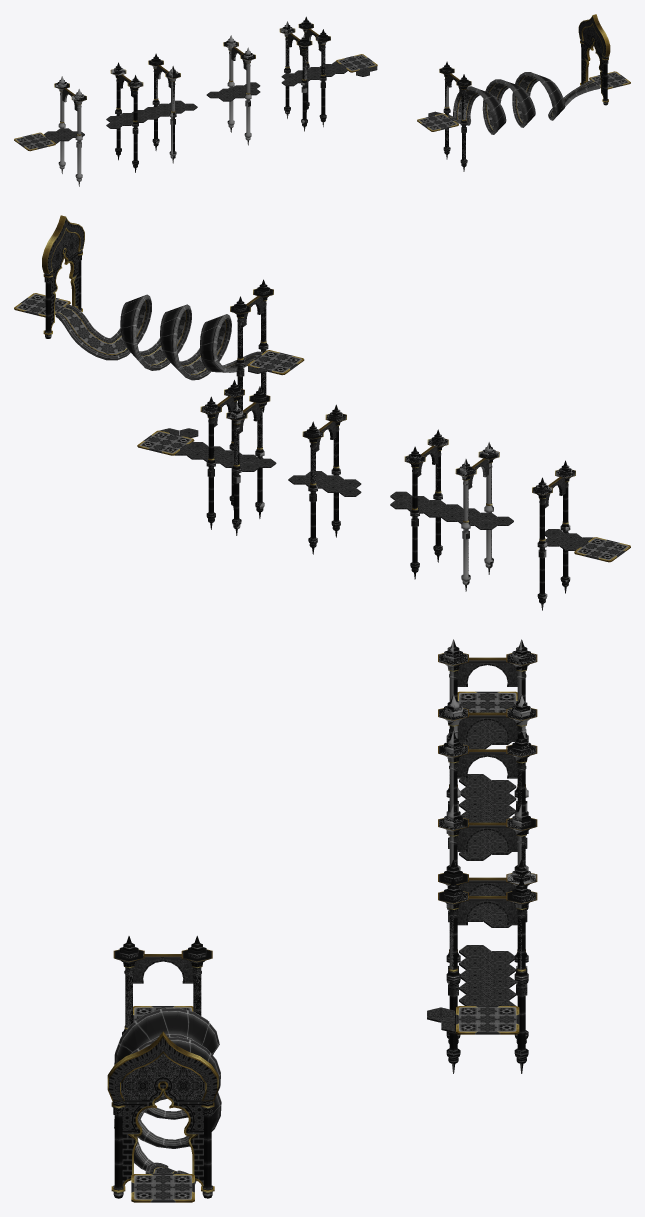
The model's file is NPSpace1.gltf.
3 renders of one model, top to bottom at view 1: azimuth 30°, elevation 25°; view 2: azimuth 150°, elevation 25°; view 3: azimuth 270°, elevation 25°, orthographic. The views are drawn at different scales.
Visible parts, largest first — view 1: stg070_k20_Mesh_0021, stg070_k20_Mesh_0009, stg070_k20_Mesh_0000, stg070_k20_Mesh_0011, stg070_k20_Mesh_0015, stg070_k20_Mesh_0002, stg070_k20_Mesh_0031, stg070_o20_Mesh_0006, stg070_o20_Mesh_0005, stg070_k20_Mesh_0033, stg070_k20_Mesh_0018, stg070_k20_Mesh_0012 (+3 smaller); view 2: stg070_k20_Mesh_0021, stg070_k20_Mesh_0000, stg070_k20_Mesh_0011, stg070_k20_Mesh_0009, stg070_k20_Mesh_0015, stg070_k20_Mesh_0002, stg070_k20_Mesh_0031, stg070_k20_Mesh_0033, stg070_k20_Mesh_0018, stg070_o20_Mesh_0006, stg070_o20_Mesh_0005, stg070_k20_Mesh_0012 (+1 smaller); view 3: stg070_k20_Mesh_0000, stg070_k20_Mesh_0021, stg070_k20_Mesh_0031, stg070_k20_Mesh_0009, stg070_k20_Mesh_0011, stg070_k20_Mesh_0015, stg070_k20_Mesh_0007, stg070_k20_Mesh_0014, stg070_k20_Mesh_0033, stg070_o20_Mesh_0005, stg070_o20_Mesh_0006, stg070_k20_Mesh_0026 (+6 smaller).
Part boxes in pixels (left/top/right/bottom): stg070_k20_Mesh_0021: left=447, top=72, right=600, bottom=134; stg070_k20_Mesh_0009: left=55, top=21, right=329, bottom=186; stg070_k20_Mesh_0000: left=44, top=61, right=347, bottom=143; stg070_k20_Mesh_0011: left=59, top=36, right=326, bottom=161; stg070_k20_Mesh_0015: left=57, top=22, right=327, bottom=175; stg070_k20_Mesh_0002: left=450, top=75, right=597, bottom=129; stg070_k20_Mesh_0031: left=62, top=29, right=321, bottom=110; stg070_o20_Mesh_0006: left=54, top=23, right=330, bottom=135; stg070_o20_Mesh_0005: left=578, top=14, right=610, bottom=102; stg070_k20_Mesh_0033: left=55, top=23, right=330, bottom=101; stg070_k20_Mesh_0018: left=59, top=16, right=326, bottom=179; stg070_k20_Mesh_0012: left=443, top=81, right=467, bottom=160; stg070_k20_Mesh_0021: left=55, top=294, right=262, bottom=380; stg070_k20_Mesh_0000: left=175, top=442, right=593, bottom=550; stg070_k20_Mesh_0011: left=206, top=406, right=570, bottom=594; stg070_k20_Mesh_0009: left=202, top=386, right=574, bottom=610; stg070_k20_Mesh_0015: left=205, top=387, right=571, bottom=600; stg070_k20_Mesh_0002: left=59, top=301, right=259, bottom=374; stg070_k20_Mesh_0031: left=214, top=397, right=565, bottom=508; stg070_k20_Mesh_0033: left=201, top=389, right=575, bottom=495; stg070_k20_Mesh_0018: left=207, top=380, right=569, bottom=610; stg070_o20_Mesh_0006: left=200, top=389, right=575, bottom=541; stg070_o20_Mesh_0005: left=42, top=215, right=84, bottom=335; stg070_k20_Mesh_0012: left=235, top=305, right=268, bottom=410; stg070_k20_Mesh_0000: left=459, top=720, right=516, bottom=1005; stg070_k20_Mesh_0021: left=114, top=1008, right=221, bottom=1183; stg070_k20_Mesh_0031: left=457, top=660, right=517, bottom=925; stg070_k20_Mesh_0009: left=439, top=639, right=536, bottom=1073; stg070_k20_Mesh_0011: left=446, top=678, right=528, bottom=1050; stg070_k20_Mesh_0015: left=444, top=650, right=530, bottom=1059; stg070_k20_Mesh_0007: left=109, top=1037, right=217, bottom=1132; stg070_k20_Mesh_0014: left=121, top=1053, right=205, bottom=1099; stg070_k20_Mesh_0033: left=439, top=653, right=536, bottom=905; stg070_o20_Mesh_0005: left=107, top=1031, right=218, bottom=1192; stg070_o20_Mesh_0006: left=438, top=653, right=537, bottom=972; stg070_k20_Mesh_0026: left=122, top=1079, right=203, bottom=1185.
Bounding box in the file's own units: 297 × 63.8 × 106.
Materials: 15 (14 with a texture image).
